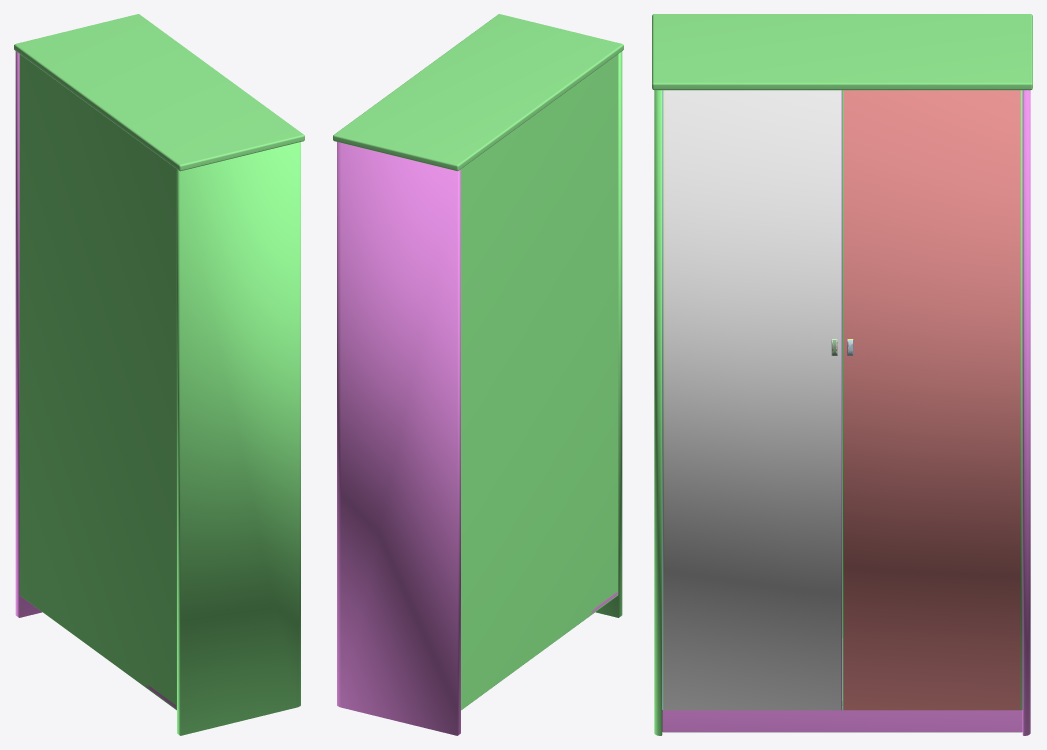
The model's file is wardrobe.fbx.
3 views of the same model, side by side, from view 1: azimuth 30°, elevation 25°; view 2: azimuth 150°, elevation 25°; view 3: azimuth 270°, elevation 25° (orthographic). The views are drawn at different scales.
Parts seen in each view (by area): view 1: wardrobe; view 2: wardrobe; view 3: wardrobe.
Part boxes in pixels (x1=…): wardrobe: x1=14, y1=14, x2=304, y2=735; wardrobe: x1=333, y1=14, x2=623, y2=735; wardrobe: x1=652, y1=14, x2=1032, y2=735.
Bounding box in the file's own units: 72.84 × 303 × 160.
